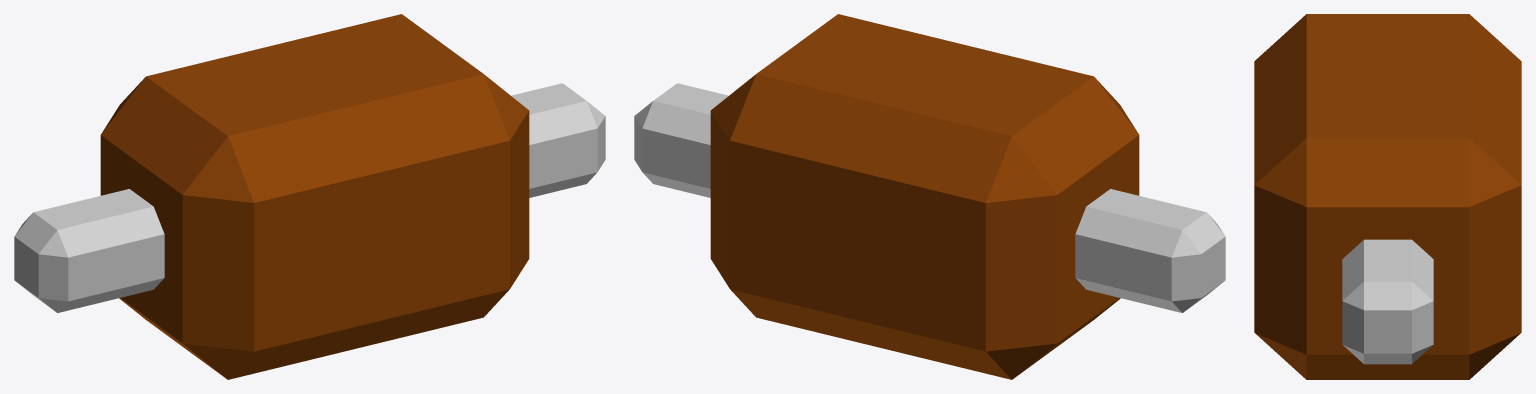
The model's file is AP_Heal_Item.fbx.
The picture shows the model from 3 angles, left to right: view 1: azimuth 30°, elevation 25°; view 2: azimuth 150°, elevation 25°; view 3: azimuth 270°, elevation 25°; orthographic projection.
Parts seen in each view (by area): view 1: Cube; view 2: Cube; view 3: Cube.
Part boxes in pixels (x1,y1,x2,y2): Cube: (14,14,605,379); Cube: (634,14,1225,379); Cube: (1254,14,1521,379).
Size of the model in its own units: 4.87 by 2 by 2.
